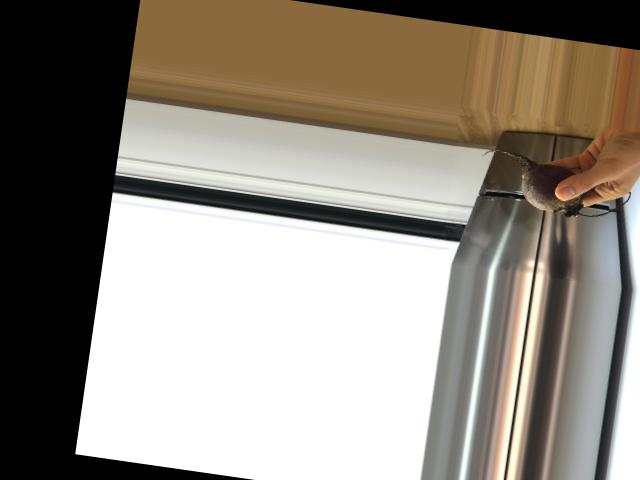beet: (474, 146, 633, 225)
